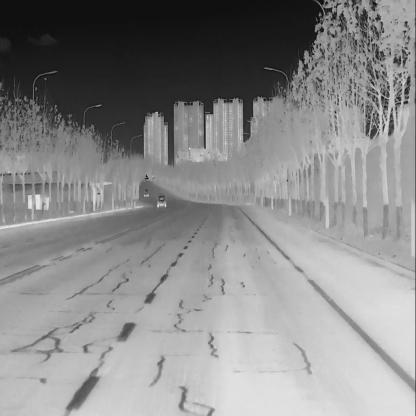car: (156, 194, 167, 207), (143, 187, 149, 198)
